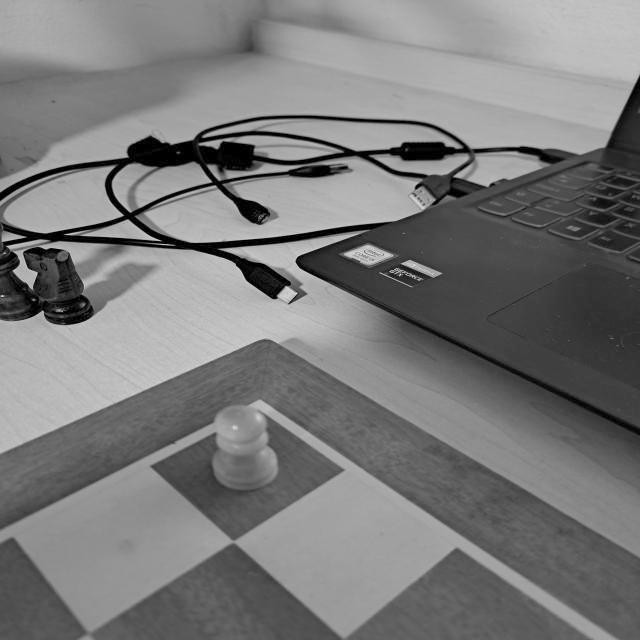chess-table-corners: (193, 373, 325, 450)
